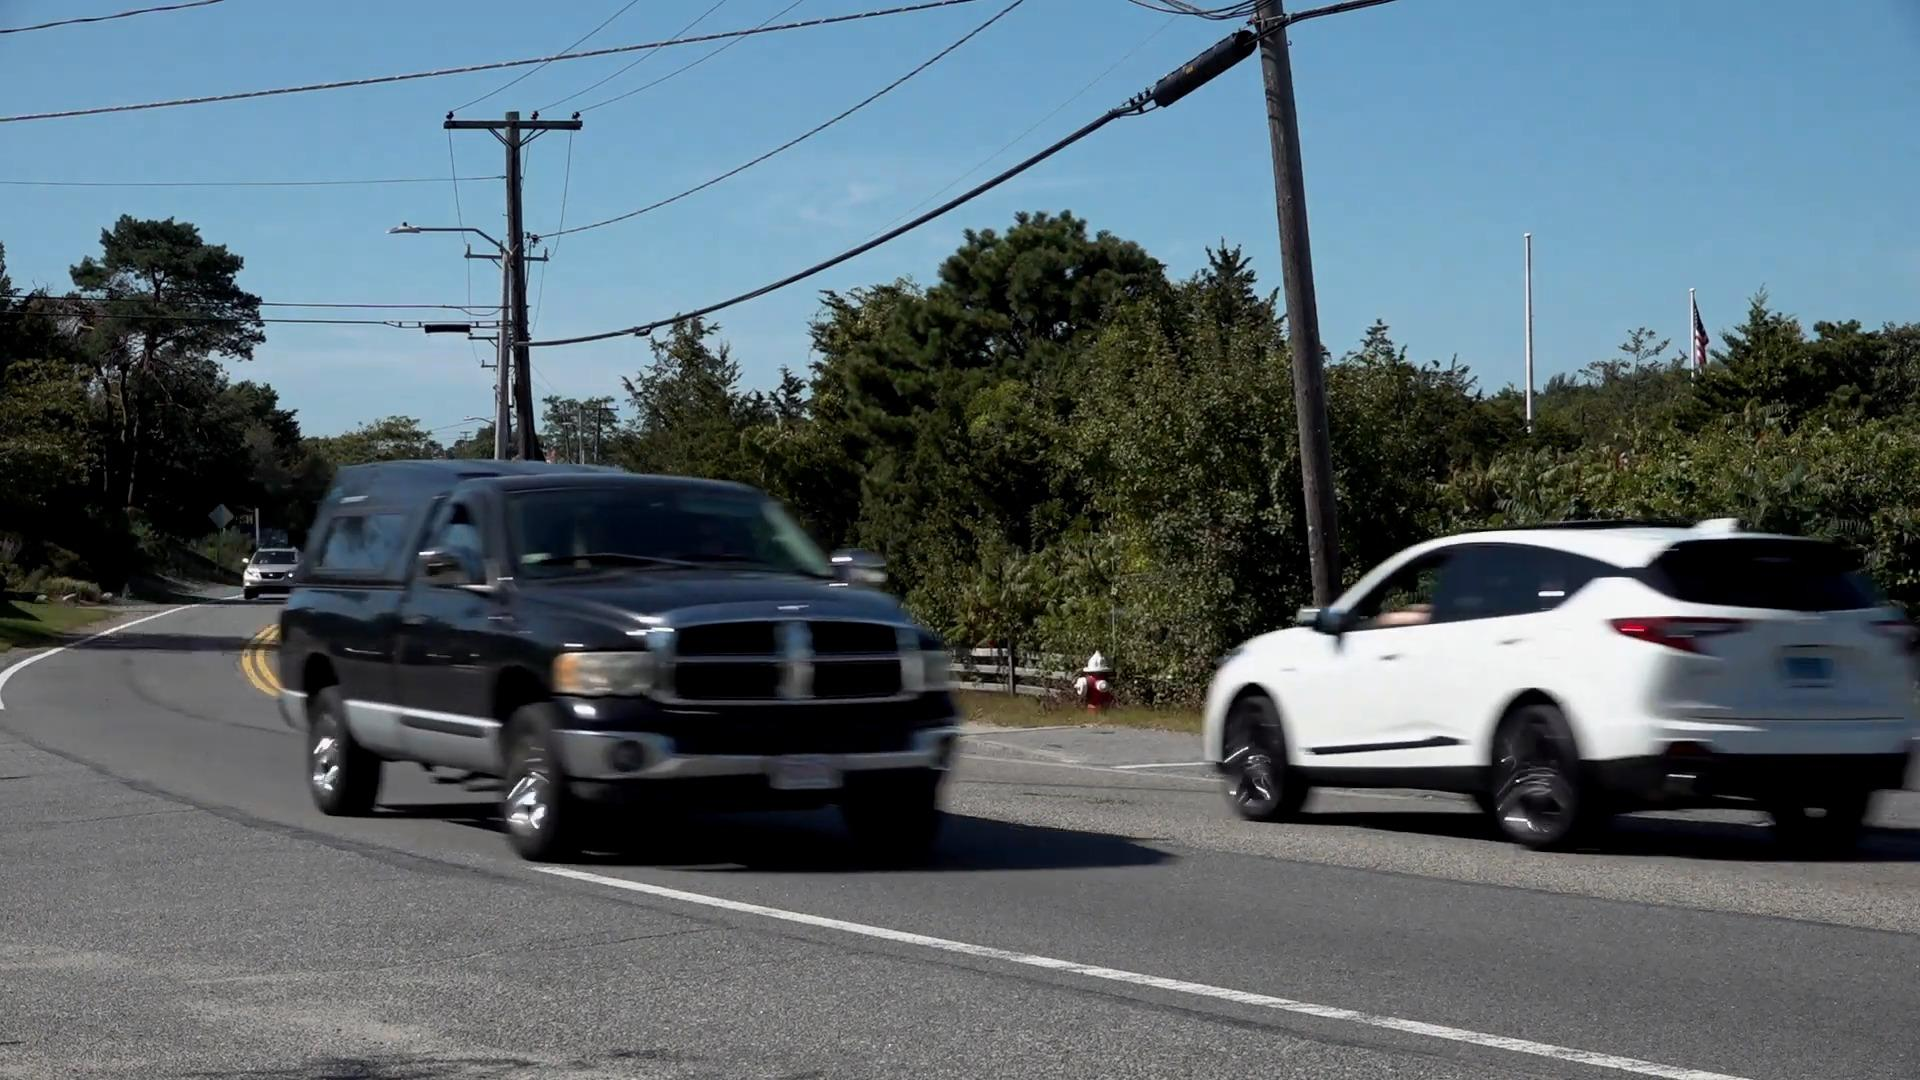pickup: (279, 459, 959, 854)
suv: (1204, 521, 1920, 846)
